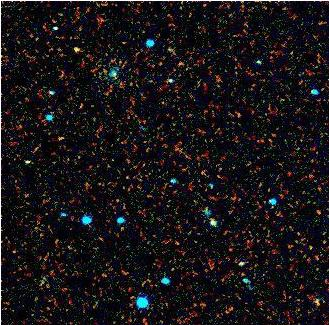star: (58, 37, 88, 67)
